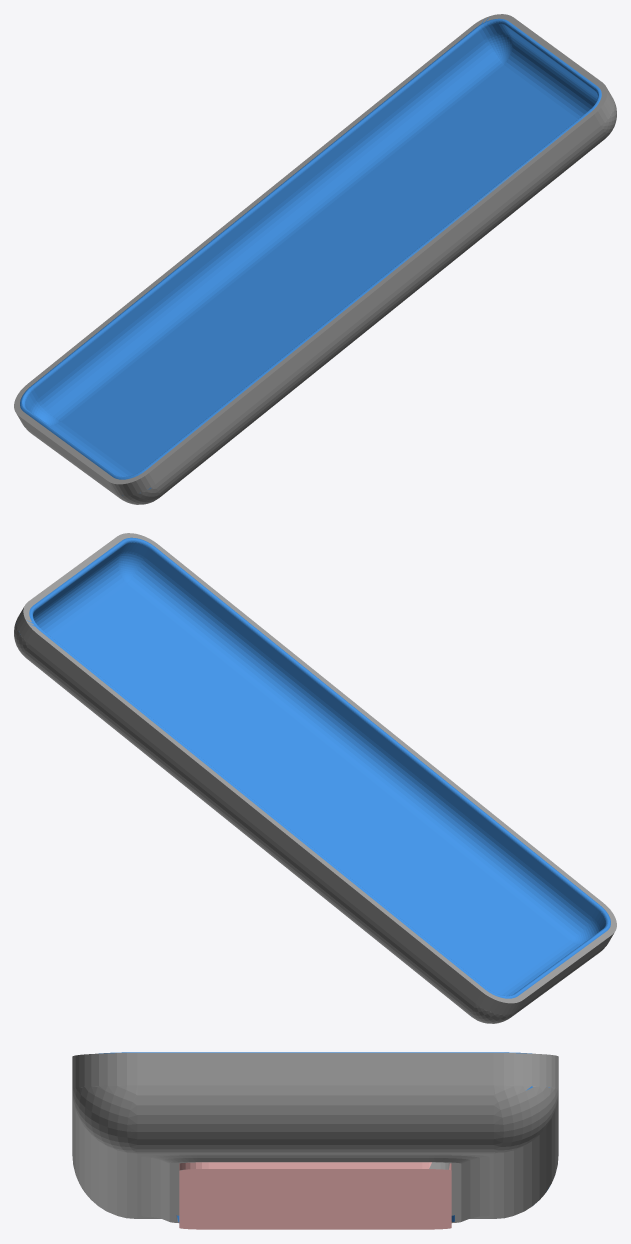
The model's file is Concrete_Dish.glb.
3 views of the same model, one above another, from view 1: azimuth 30°, elevation 25°; view 2: azimuth 150°, elevation 25°; view 3: azimuth 270°, elevation 25° (orthographic). The views are drawn at different scales.
Parts seen in each view (by area): view 1: Long Concrete Serving Bowl; view 2: Long Concrete Serving Bowl; view 3: Long Concrete Serving Bowl.
Boxes of the visible parts, left/top/right/bottom form: Long Concrete Serving Bowl: left=14, top=14, right=616, bottom=504; Long Concrete Serving Bowl: left=14, top=533, right=616, bottom=1023; Long Concrete Serving Bowl: left=72, top=1052, right=558, bottom=1229.
Size of the model in its own units: 180 by 104 by 75.
